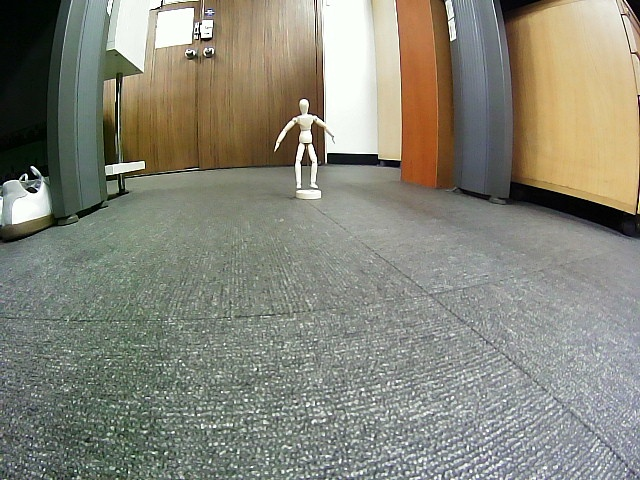person: (273, 99, 334, 189)
